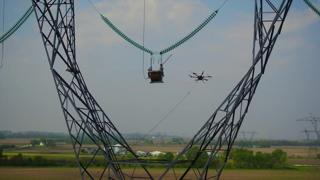UAV: (188, 71, 213, 84)
